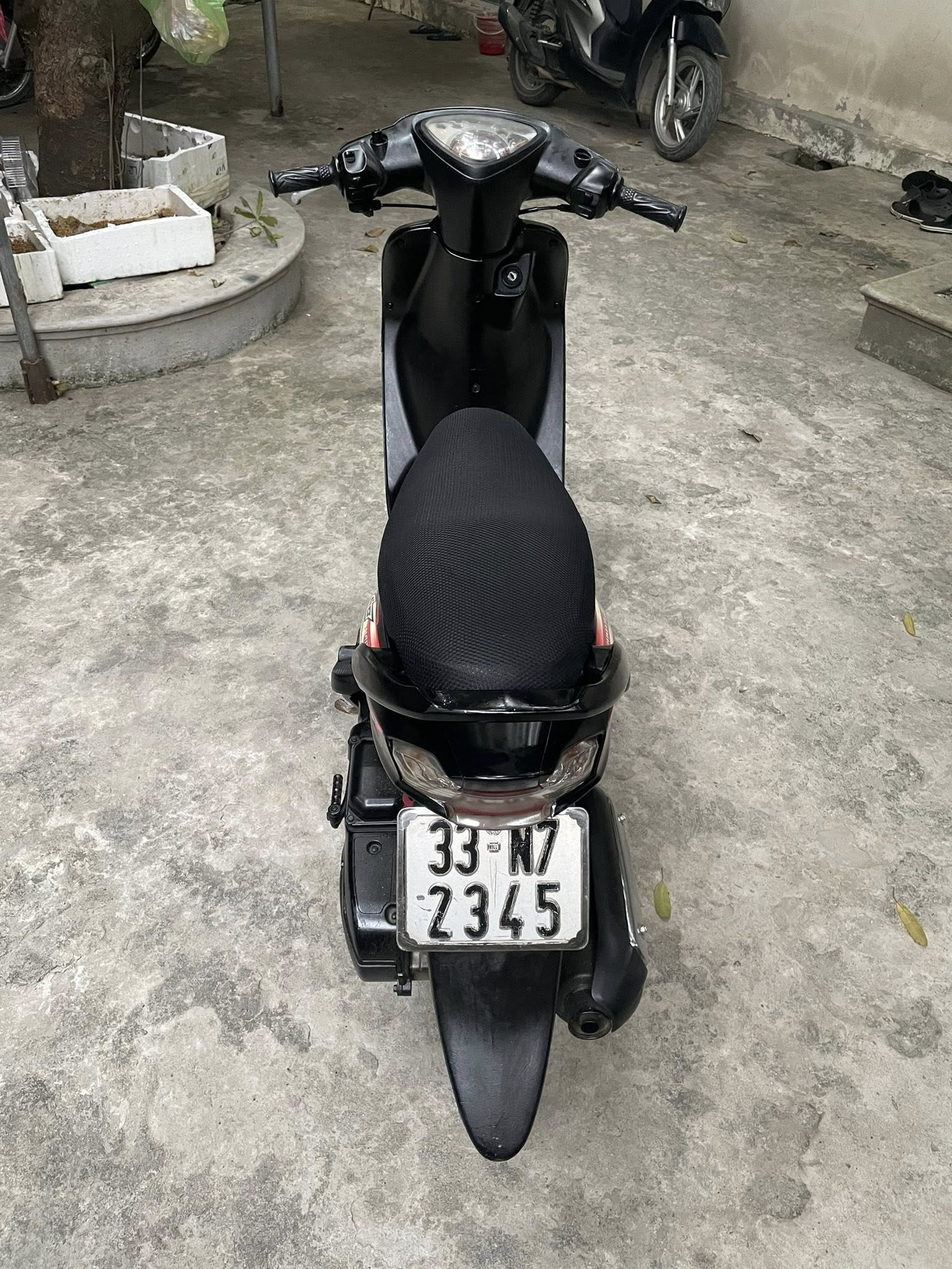bien_so: (367, 802, 615, 963)
